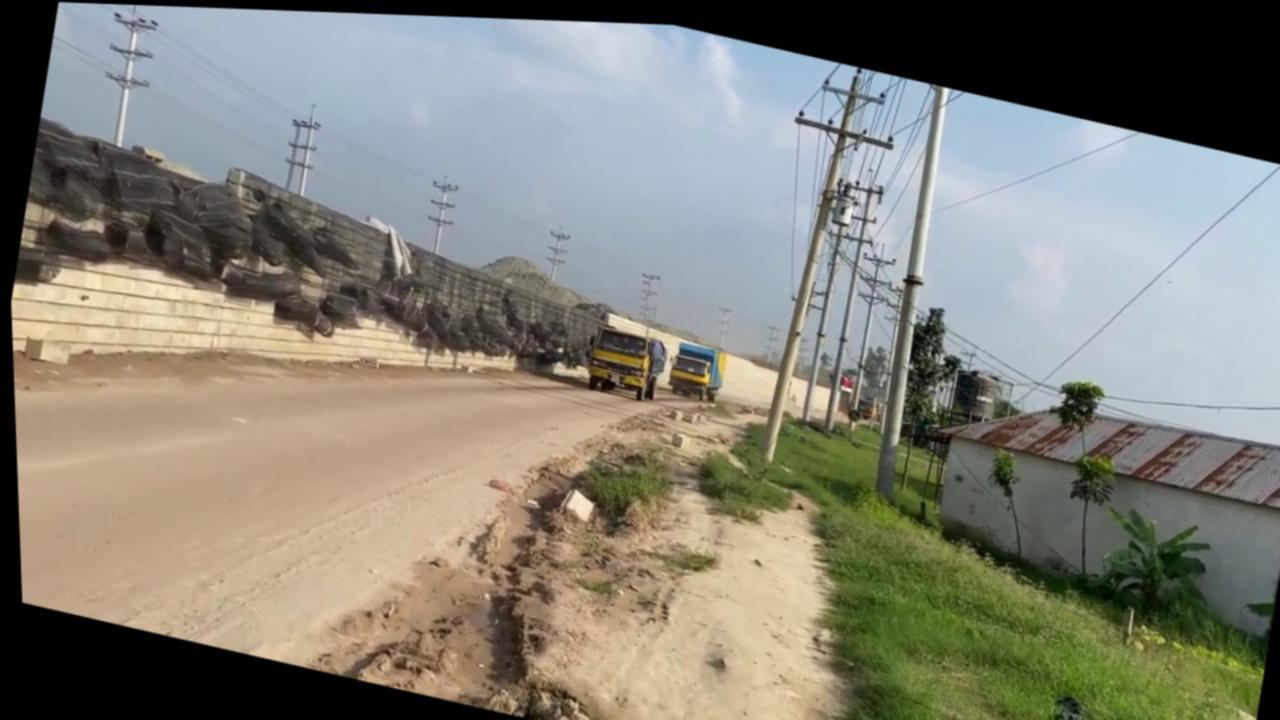Curb: (7, 226, 523, 464)
Garbage: (9, 114, 618, 397)
Obstacle: (551, 479, 594, 519)
Pole: (726, 46, 913, 473), (850, 74, 971, 499), (787, 177, 860, 419)
Rickshaw: (451, 346, 912, 720)
Traffic-sign: (1083, 491, 1214, 618), (1046, 438, 1118, 571)
Tree: (576, 314, 669, 400), (660, 332, 724, 398)
